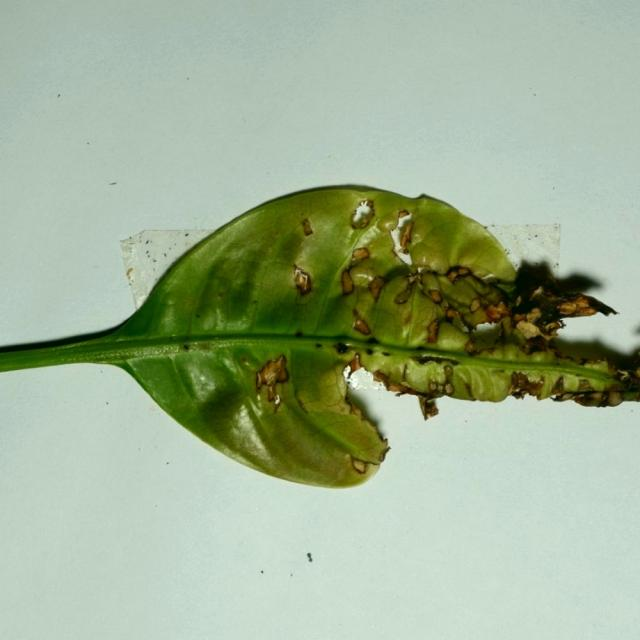Anthracnose: (251, 353, 304, 419), (339, 250, 381, 317), (510, 307, 564, 351), (392, 268, 441, 312), (550, 388, 631, 407), (390, 209, 416, 263), (466, 323, 502, 352), (509, 371, 546, 399), (350, 199, 375, 229), (292, 264, 313, 296), (427, 374, 454, 398), (177, 341, 223, 354), (418, 394, 440, 420), (414, 355, 460, 367), (556, 300, 587, 316), (512, 308, 543, 324), (373, 371, 393, 392), (484, 305, 507, 322), (426, 319, 441, 345), (445, 266, 471, 281), (341, 269, 354, 295), (347, 353, 363, 373), (351, 247, 370, 262), (274, 355, 288, 374), (352, 457, 368, 473), (530, 285, 546, 301), (464, 339, 478, 355), (349, 402, 363, 418), (578, 378, 594, 392), (463, 381, 475, 399), (302, 220, 314, 237), (378, 446, 390, 462), (334, 342, 350, 354), (256, 369, 266, 388), (469, 299, 482, 313), (443, 365, 454, 380), (461, 322, 471, 334), (126, 267, 133, 279), (366, 199, 374, 208), (241, 356, 249, 365), (294, 330, 304, 337), (217, 292, 225, 299), (182, 344, 190, 351)
Mango: (0, 185, 639, 492)
